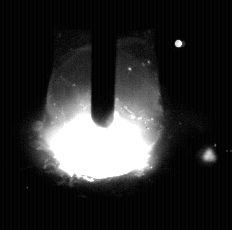arame: (92, 0, 116, 127)
poca: (38, 0, 164, 230)
